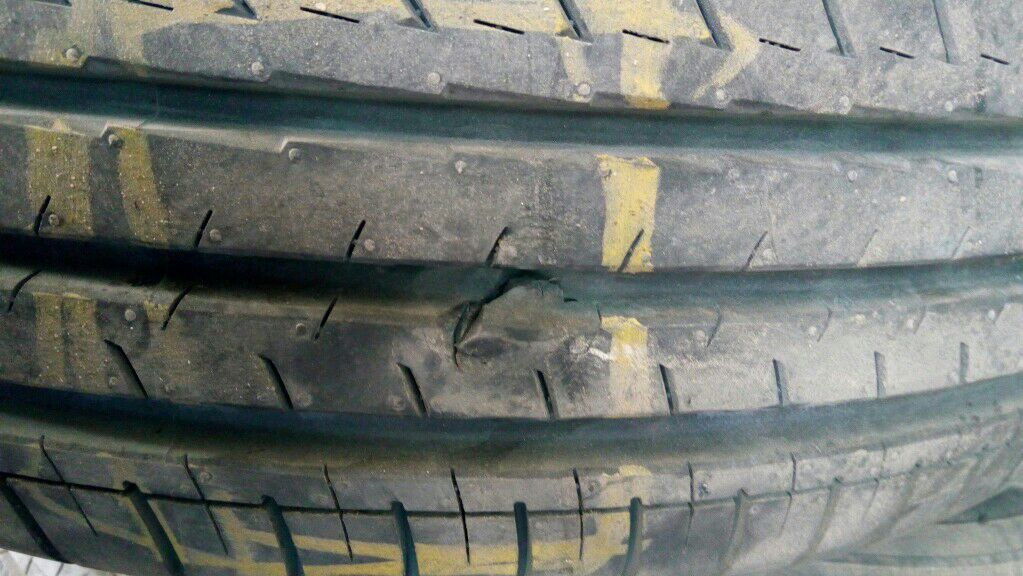tr: (438, 256, 601, 376)
